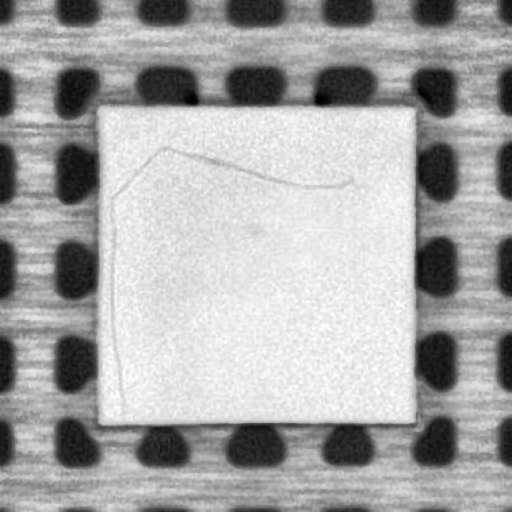DIE_CRACK: (103, 143, 355, 195), (106, 194, 127, 414)
